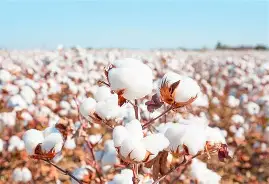crops: (0, 46, 265, 182), (1, 77, 49, 119)
